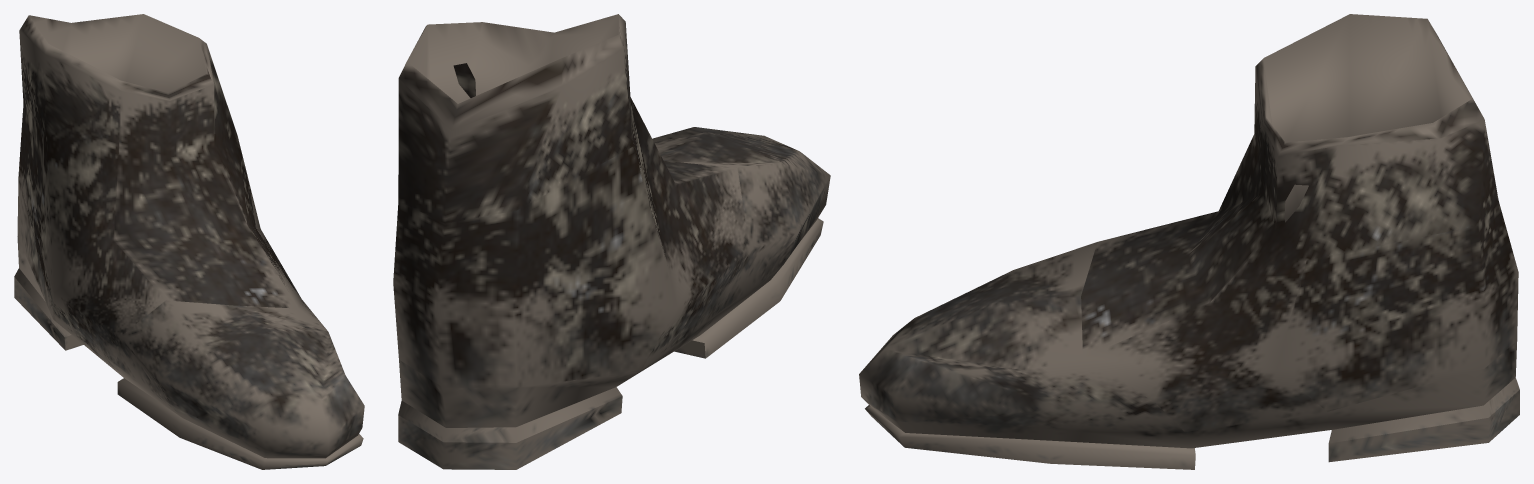
File: Puzzle_Shoe.fbx
3 renders of one model, left to right at view 1: azimuth 30°, elevation 25°; view 2: azimuth 150°, elevation 25°; view 3: azimuth 270°, elevation 25°, orthographic. The views are drawn at different scales.
Visible parts, largest first — view 1: Puzzle_Shoe; view 2: Puzzle_Shoe; view 3: Puzzle_Shoe.
Boxes of the visible parts, bbox=[...] form: Puzzle_Shoe: bbox=[14, 14, 364, 469]; Puzzle_Shoe: bbox=[393, 14, 830, 469]; Puzzle_Shoe: bbox=[859, 14, 1519, 469].
Bounding box in the file's own units: 12.76 × 18.39 × 30.1.
